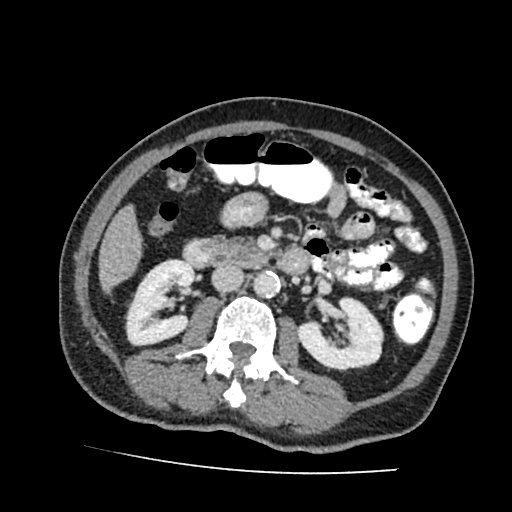aorta: (253, 280, 270, 299)
